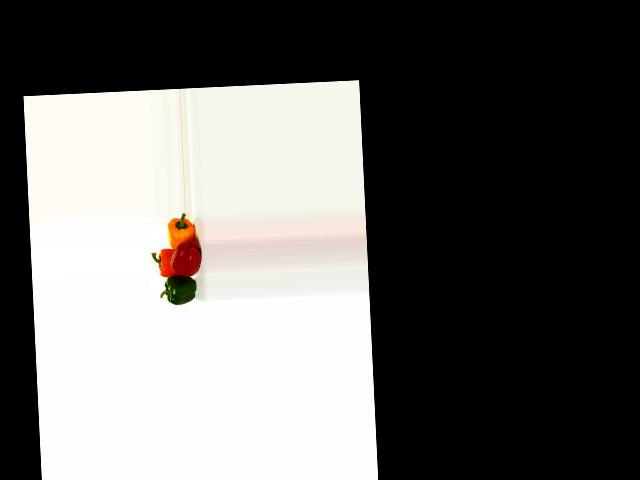bell_pepper: (161, 272, 201, 305)
